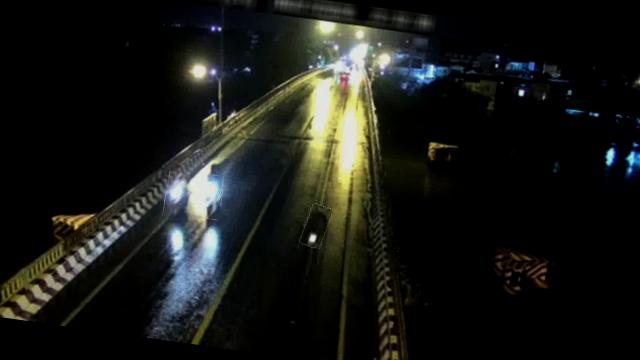Bike: (193, 173, 224, 220), (300, 203, 331, 249), (162, 170, 190, 218)
